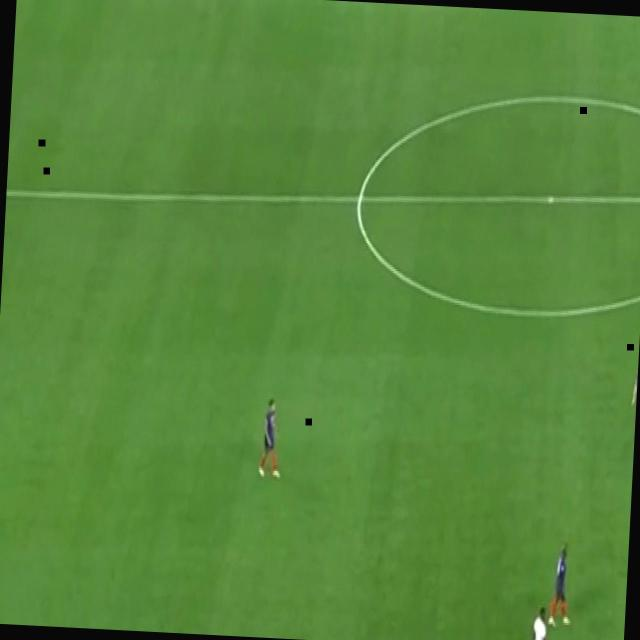player-white: (254, 389, 286, 484), (548, 542, 572, 626), (527, 604, 551, 640), (628, 355, 638, 441)
